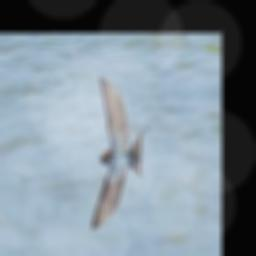Swallow: (92, 76, 150, 230)
